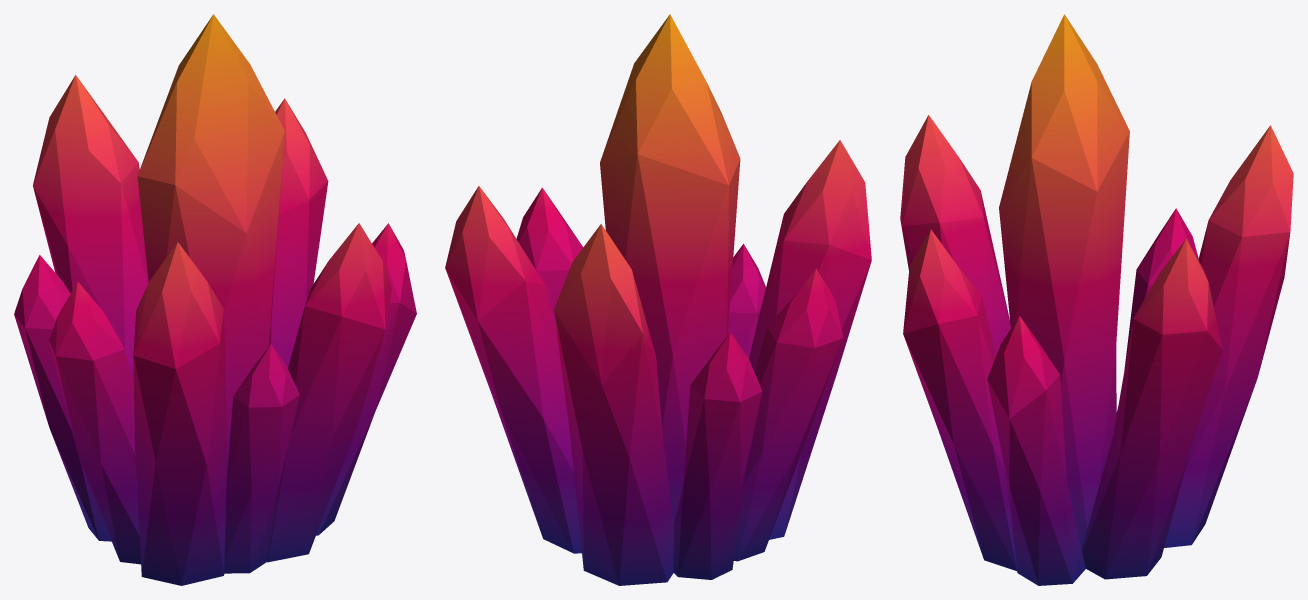
The model's file is cristales09.fbx.
3 renders of one model, left to right at view 1: azimuth 30°, elevation 25°; view 2: azimuth 150°, elevation 25°; view 3: azimuth 270°, elevation 25°, orthographic.
Parts seen in each view (by area): view 1: cristal11; view 2: cristal11; view 3: cristal11.
Part boxes in pixels (x1=…): cristal11: x1=14, y1=14, x2=416, y2=585; cristal11: x1=445, y1=14, x2=871, y2=585; cristal11: x1=900, y1=14, x2=1293, y2=585.
Bounding box in the file's own units: 907 × 1325 × 909.
Materials: 1 (1 with a texture image).
